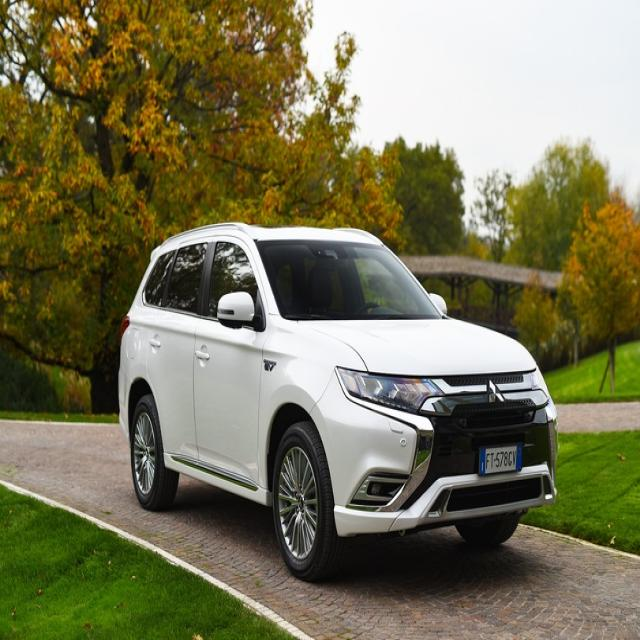light_vehicle: (117, 222, 560, 582)
